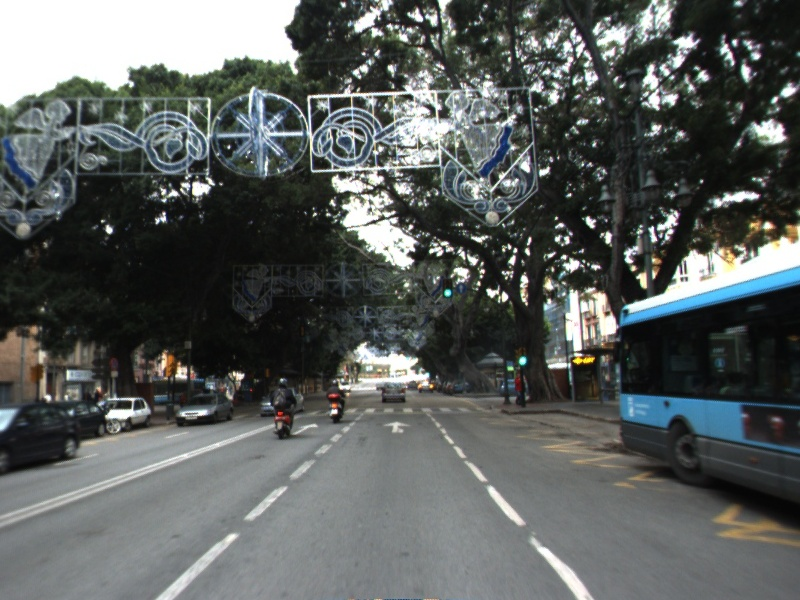STRAIGHT: (381, 419, 413, 435), (290, 420, 321, 436)
